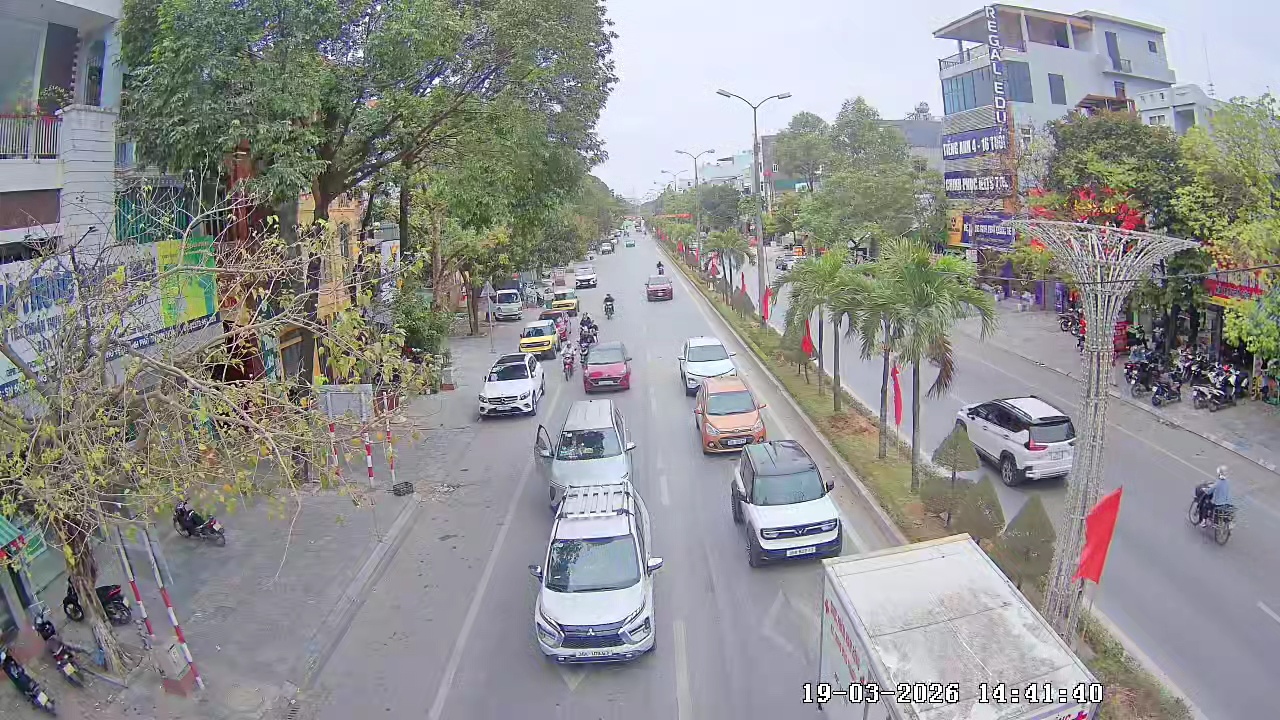car: (796, 540, 1106, 719), (528, 478, 665, 666), (728, 438, 843, 568), (533, 398, 638, 512), (962, 394, 1078, 488), (692, 375, 767, 457), (476, 354, 547, 418), (676, 335, 737, 397), (580, 340, 634, 395), (518, 319, 559, 360), (550, 279, 578, 314), (643, 272, 674, 302), (573, 263, 598, 289)
motorbike: (1186, 465, 1240, 547), (170, 496, 227, 543), (559, 337, 577, 380), (577, 313, 599, 347), (601, 290, 618, 320)
